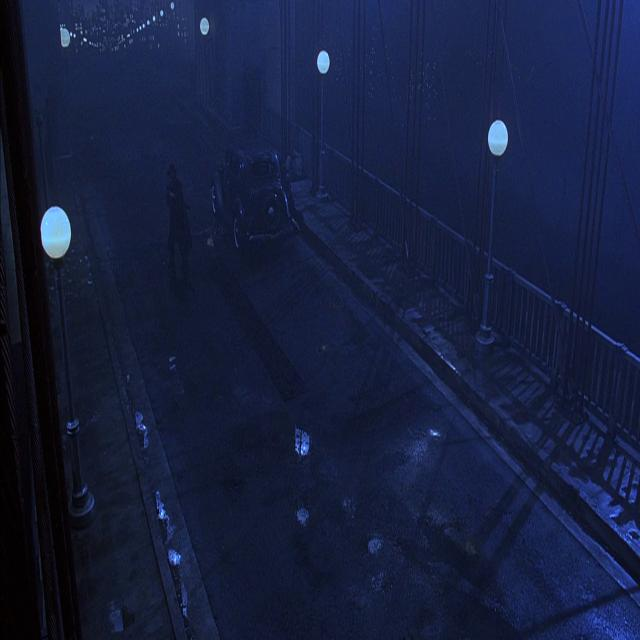Car: (190, 108, 306, 261)
